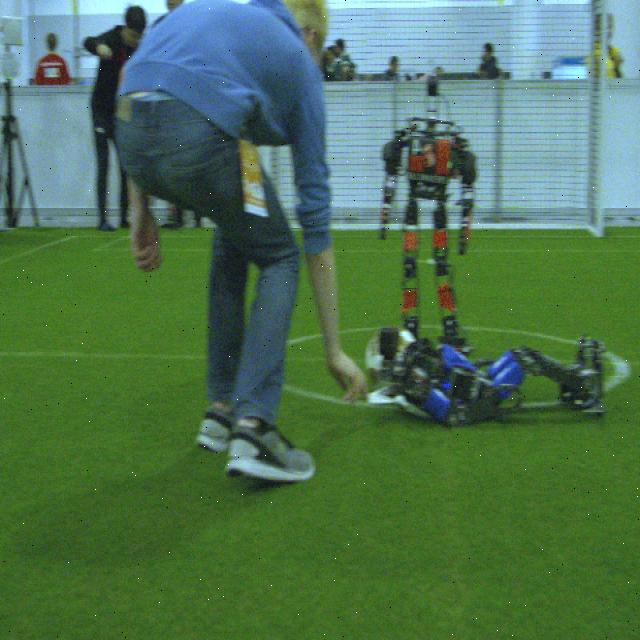ball: (366, 324, 421, 391)
goalpost: (597, 1, 608, 236)
